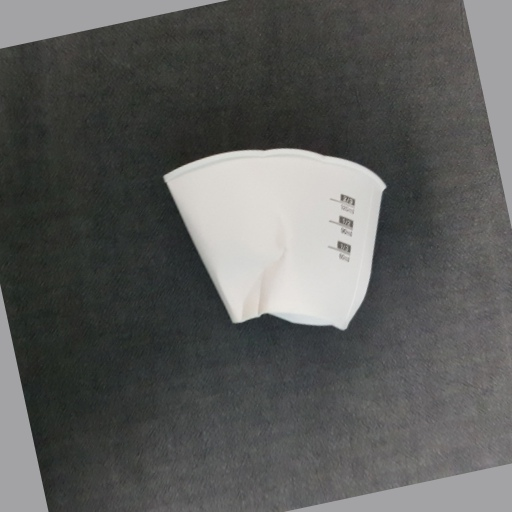Paper_1: (160, 145, 387, 331)
